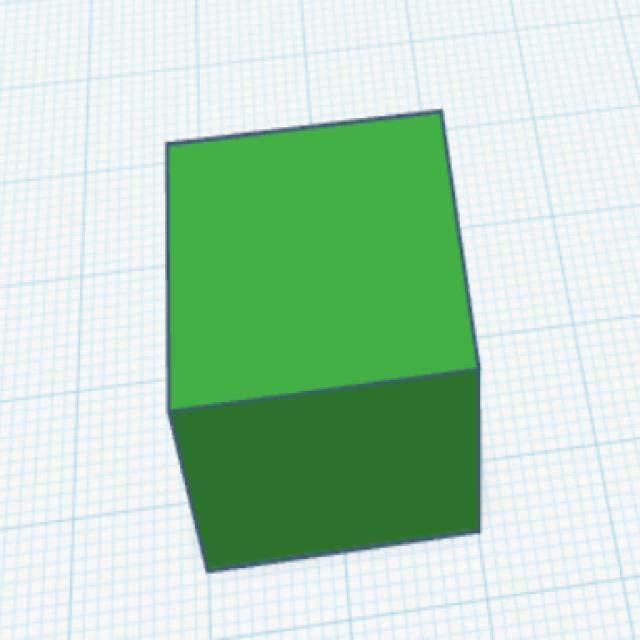cube: (160, 104, 486, 578)
